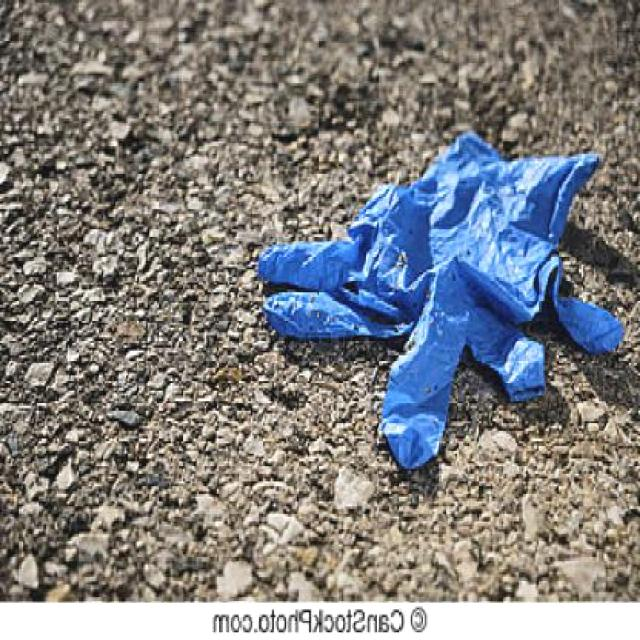glove: (253, 118, 624, 476)
